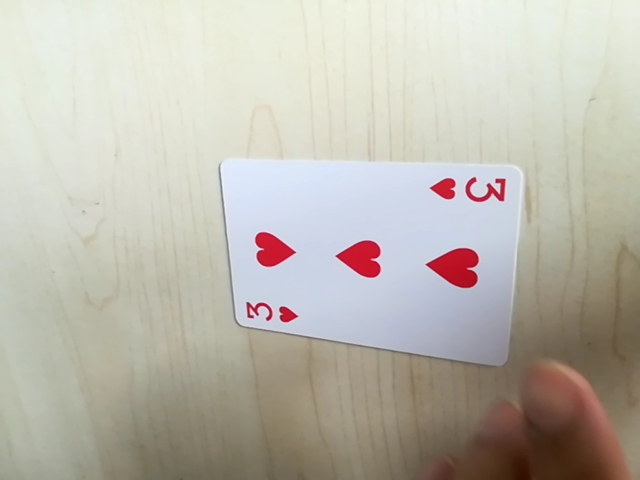hx 3: (428, 169, 510, 208), (237, 297, 302, 330)
